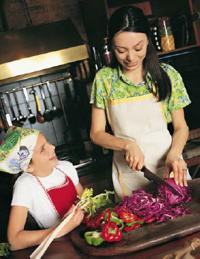person: (89, 5, 193, 205)
